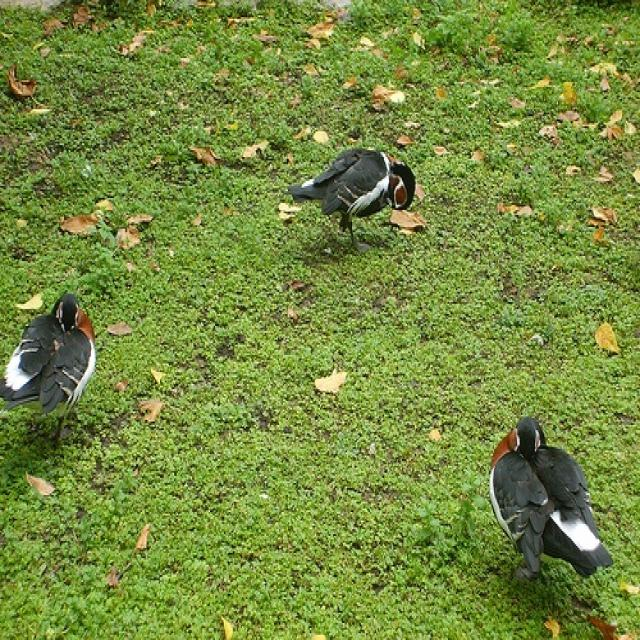bird: (484, 407, 618, 588), (2, 286, 105, 446), (283, 134, 420, 247)
